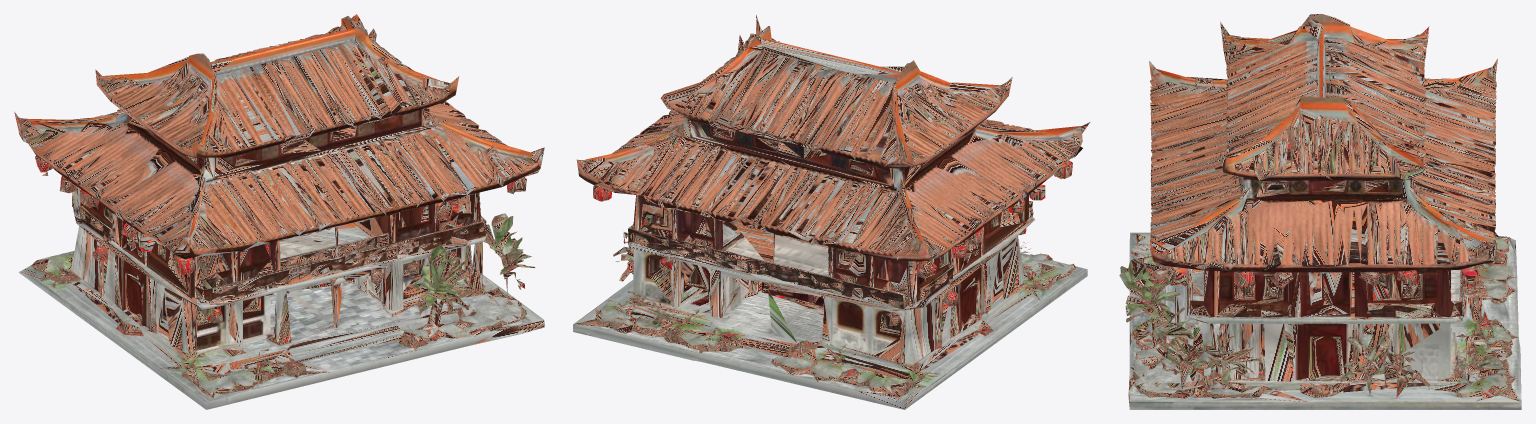
The model's file is bq_yamen.mid.glb.
3 views of the same model, side by side, from view 1: azimuth 30°, elevation 25°; view 2: azimuth 150°, elevation 25°; view 3: azimuth 270°, elevation 25° (orthographic). The views are drawn at different scales.
Size of the model in its own units: 1.89 by 1.28 by 1.72.
Materials: 1 (1 with a texture image).
